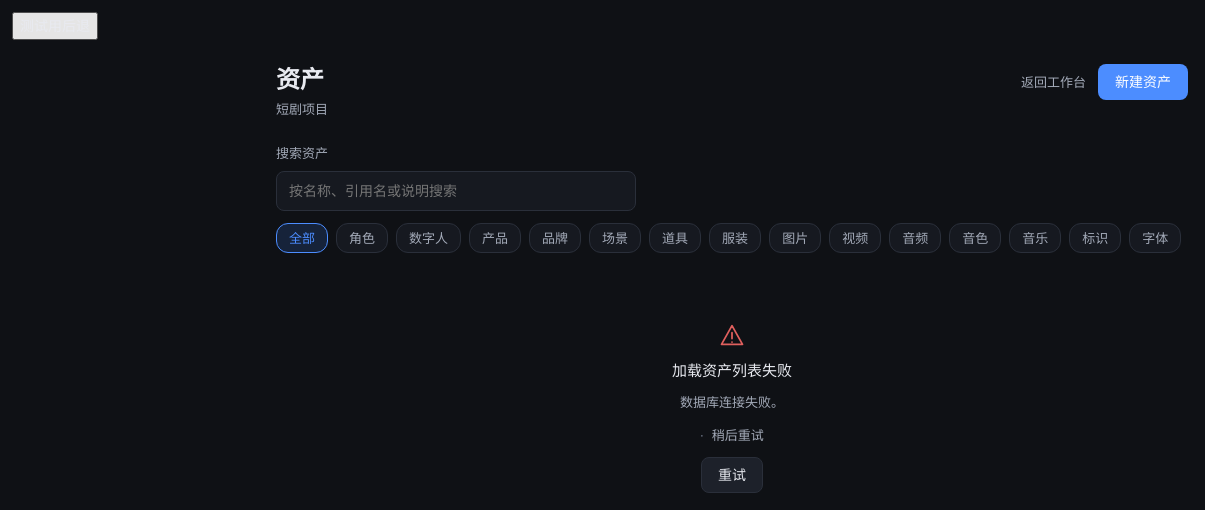
AssetLibraryPage 的三态 › 加载失败 → 显示发生了什么 / 原因 / 下一步，并能重试
This screenshot has width=1205, height=510.
Expected: the message shows "数据库连接失败。", 680,394 -> 784,410
Expected: the list item "稍后重试" is shown, 700,425 -> 764,445
Click the button "重试". click: (732,475)
box: 701,457 -> 763,493
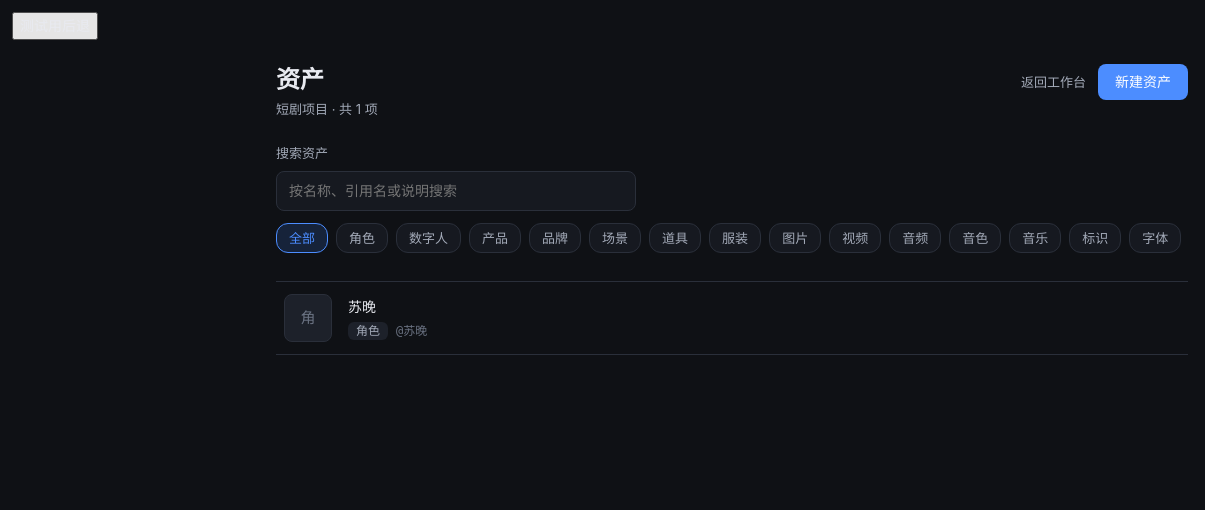
Now the button "角 苏晚 角色 @苏晚" is shown, box 276,282 -> 1188,355
